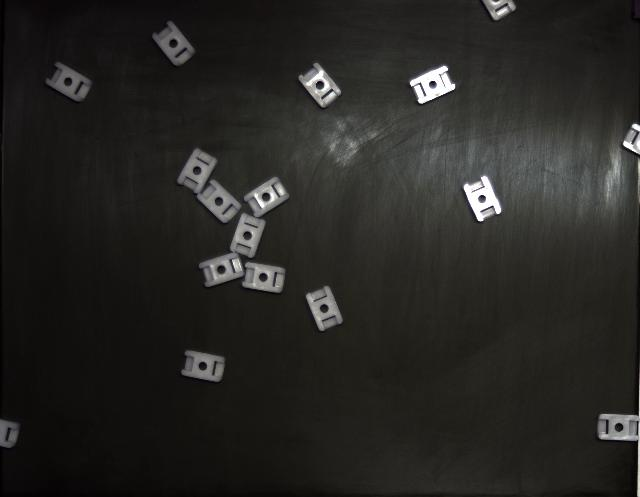second_side: (152, 21, 196, 66), (299, 62, 341, 108), (198, 180, 241, 224), (45, 62, 92, 102), (244, 178, 289, 218), (178, 149, 218, 194), (410, 66, 455, 104), (464, 176, 501, 222), (306, 286, 342, 331), (230, 214, 266, 259), (199, 253, 245, 288), (242, 262, 285, 294), (181, 351, 225, 382), (598, 414, 640, 441)
